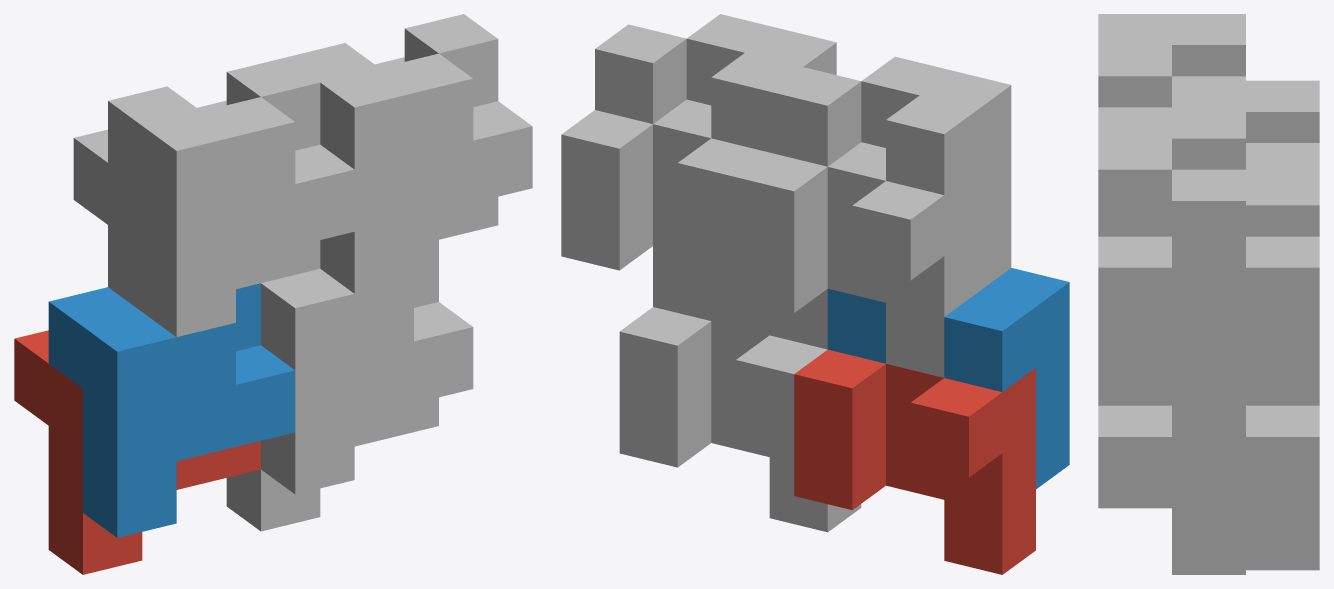
File: tiling.obj
3 renders of one model, left to right at view 1: azimuth 30°, elevation 25°; view 2: azimuth 150°, elevation 25°; view 3: azimuth 270°, elevation 25°, orthographic. The views are drawn at different scales.
Parts seen in each view (by area): view 1: copy_1_domain_4, copy_1_domain_8, copy_1_domain_2, copy_1_domain_6, copy_1_domain_1, copy_1_domain_3, copy_1_domain_5, copy_1_domain_7; view 2: copy_1_domain_1, copy_1_domain_3, copy_1_domain_7, copy_1_domain_4, copy_1_domain_5, copy_1_domain_8, copy_1_domain_2, copy_1_domain_6; view 3: copy_1_domain_8, copy_1_domain_7, copy_1_domain_6, copy_1_domain_5, copy_1_domain_4, copy_1_domain_3.
Part boxes in pixels (bbox=[...]): copy_1_domain_4: bbox=[108, 57, 354, 337]; copy_1_domain_8: bbox=[286, 14, 532, 293]; copy_1_domain_2: bbox=[48, 283, 295, 537]; copy_1_domain_6: bbox=[261, 240, 473, 494]; copy_1_domain_1: bbox=[14, 330, 260, 574]; copy_1_domain_3: bbox=[73, 100, 320, 311]; copy_1_domain_5: bbox=[226, 397, 438, 531]; copy_1_domain_7: bbox=[375, 57, 498, 245]; copy_1_domain_1: bbox=[794, 349, 1035, 574]; copy_1_domain_3: bbox=[736, 142, 977, 377]; copy_1_domain_7: bbox=[561, 99, 769, 335]; copy_1_domain_4: bbox=[769, 56, 1011, 291]; copy_1_domain_5: bbox=[619, 307, 861, 532]; copy_1_domain_8: bbox=[595, 14, 836, 152]; copy_1_domain_2: bbox=[827, 268, 1069, 488]; copy_1_domain_6: bbox=[653, 246, 827, 349]; copy_1_domain_8: bbox=[1098, 107, 1245, 338]; copy_1_domain_7: bbox=[1172, 174, 1319, 401]; copy_1_domain_6: bbox=[1098, 339, 1245, 508]; copy_1_domain_5: bbox=[1172, 401, 1319, 574]; copy_1_domain_4: bbox=[1098, 14, 1245, 107]; copy_1_domain_3: bbox=[1246, 80, 1319, 174].
Size of the model in its own units: 7 by 7 by 3.
